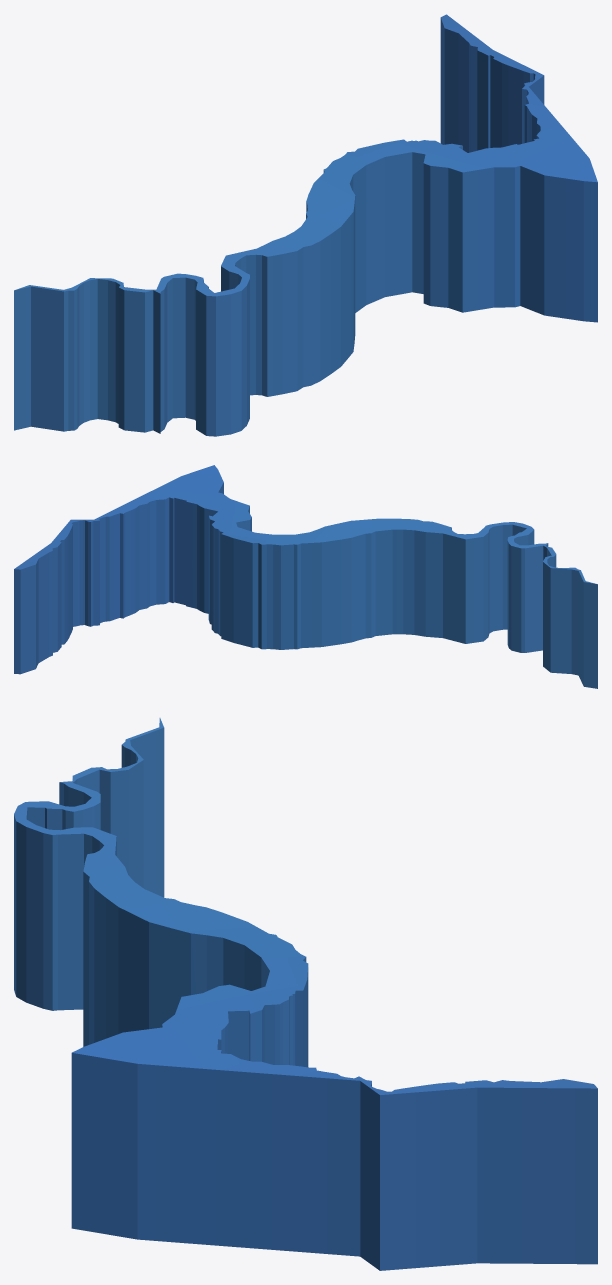
File: middlesex river.glb
3 views of the same model, one above another, from view 1: azimuth 30°, elevation 25°; view 2: azimuth 150°, elevation 25°; view 3: azimuth 270°, elevation 25° (orthographic). The views are drawn at different scales.
Parts seen in each view (by area): view 1: Plane.011; view 2: Plane.011; view 3: Plane.011.
Part boxes in pixels (x1,y1,x2,y2): Plane.011: (14, 14, 597, 436); Plane.011: (14, 465, 597, 688); Plane.011: (14, 718, 597, 1270).
Size of the model in its own units: 1.69 by 0.3658 by 1.1.
Materials: 1 (1 with a texture image).
